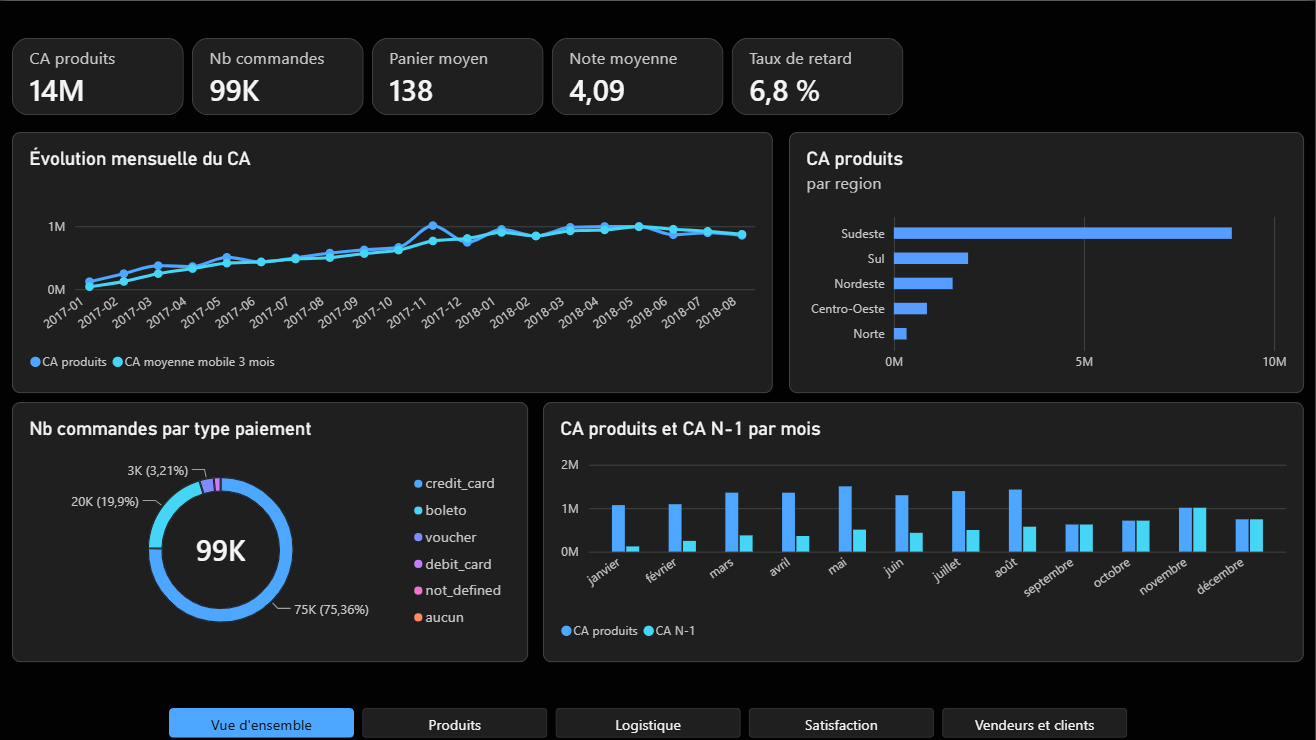

What the dashboard file says about the page in this screenshot:
{"tool":"powerbi","page":{"name":"Vue d'ensemble","canvas":[1280,720],"ordinal":0},"visuals":[{"type":"cardVisual","fields":{"Data":["_Mesures.CA produits","_Mesures.Nb commandes","_Mesures.Panier moyen","_Mesures.Note moyenne","_Mesures.Taux de retard"]},"box":[13,35.6,869.9,75.5],"z":0},{"type":"lineChart","title":"Évolution mensuelle du CA","fields":{"Category":["dim_date.annee_mois"],"Y":["_Mesures.CA produits","_Mesures.CA moyenne mobile 3 mois"]},"box":[13,127.4,740.4,253.6],"z":1000},{"type":"clusteredBarChart","fields":{"Category":["dim_client.region"],"Y":["_Mesures.CA produits"]},"box":[768.4,127.4,500.8,253.6],"z":2000},{"type":"donutChart","title":"Nb commandes par type paiement","fields":{"Category":["dim_paiement.type_paiement"],"Y":["_Mesures.Nb commandes"]},"box":[13,389.6,501.9,252.5],"z":3000},{"type":"clusteredColumnChart","title":"CA produits et CA N-1 par mois","fields":{"Category":["dim_date.nom_mois"],"Y":["_Mesures.CA produits","_Mesures.CA N-1"]},"box":[528.8,389.6,740.4,252.5],"z":4000},{"type":"pageNavigator","box":[257.4,780.3,934.6,29.1],"z":5000},{"type":"pageNavigator","box":[165.1,687.5,934.6,29.1],"z":6000}]}

Visuals, with their boxes in screenshot pixels (x1, y1, x2, y2), scaled from the page's 1280x720 canvas onto the 1316x740 screenshot:
cardVisual - _Mesures.CA produits x _Mesures.Nb commandes: (left=13, top=37, right=908, bottom=114)
"Évolution mensuelle du CA" lineChart: (left=13, top=131, right=775, bottom=392)
clusteredBarChart - dim_client.region x _Mesures.CA produits: (left=790, top=131, right=1305, bottom=392)
"Nb commandes par type paiement" donutChart: (left=13, top=400, right=529, bottom=660)
"CA produits et CA N-1 par mois" clusteredColumnChart: (left=544, top=400, right=1305, bottom=660)
pageNavigator: (left=170, top=707, right=1131, bottom=737)
